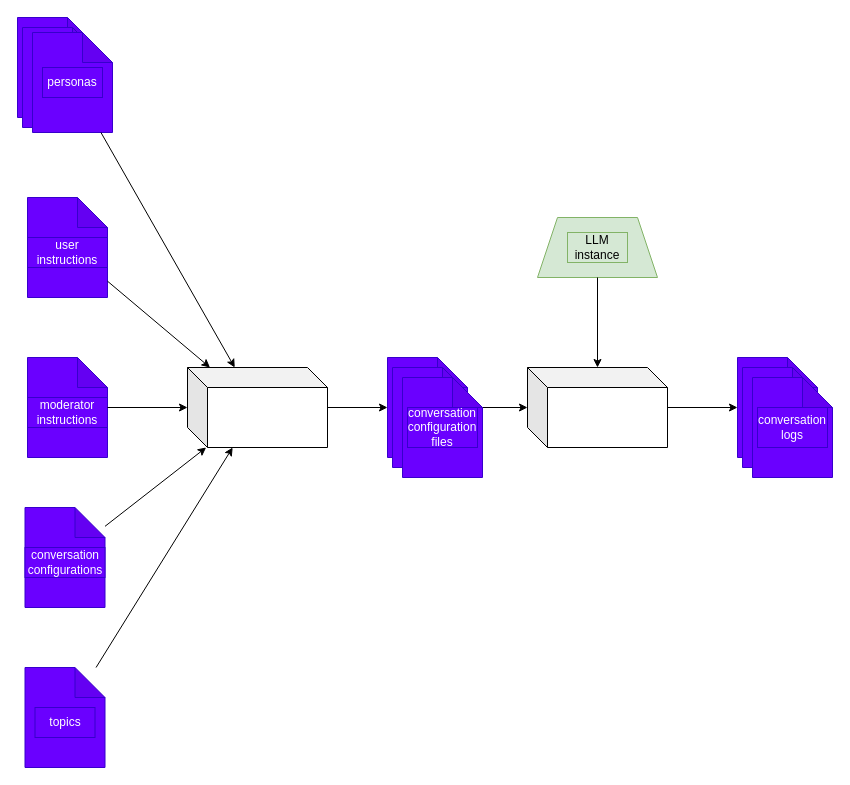
The diagram is 850 pixels wide and 785 high, and some of its shapes have lost their labels. The shapes that lost their labels are listed below. From the top down, each one's box as (x1, y1, x2, y2) in pixels, then its label:
(186, 366, 328, 448): SDF experiment generation script
(526, 366, 668, 448): SDF conversation generation script
